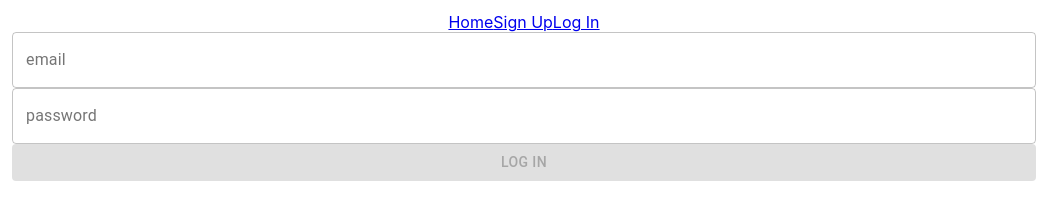
Test case: after logging in successfully, users are redirected to their dashboard
Type "example@example.com" into the field labelled "email" at (524, 60), box [12,32,1036,88]
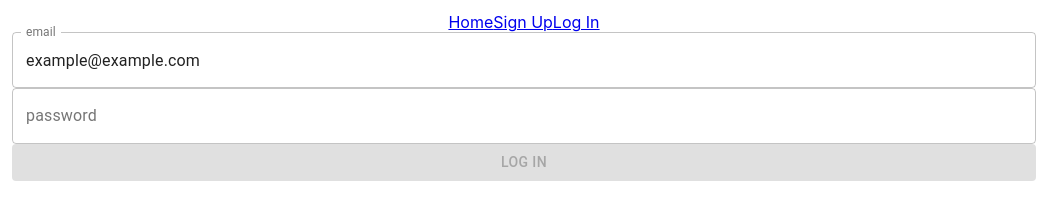
Type "password" into the password field labelled "password" at (524, 116), box [12,88,1036,144]
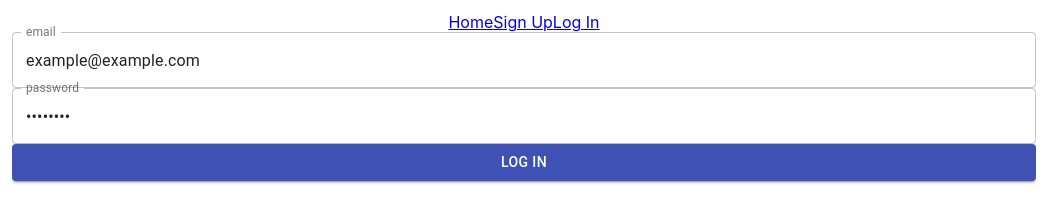
Click the button at (524, 162), box [12,144,1036,180]
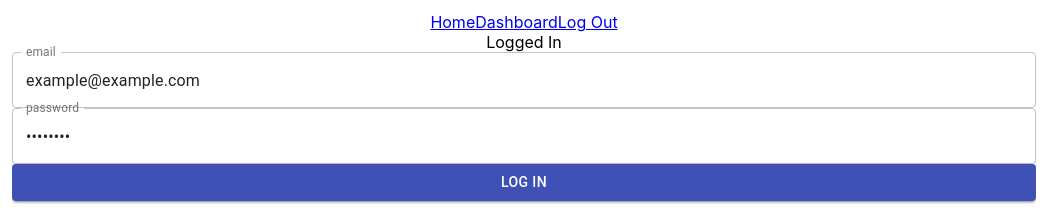
Expected: the text "Logged In" is shown, [486,32,562,52]
Expected: the link "Dashboard" is shown, [475,12,558,32]
Expected: the link "Log Out" is shown, [558,12,618,32]
